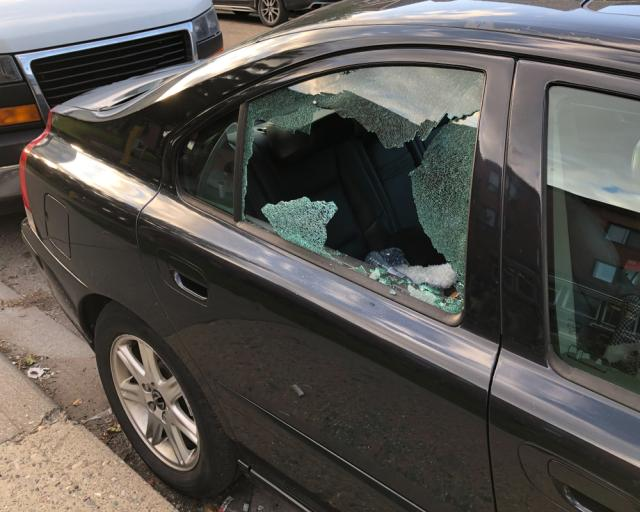glass shatter: (241, 65, 486, 314)
